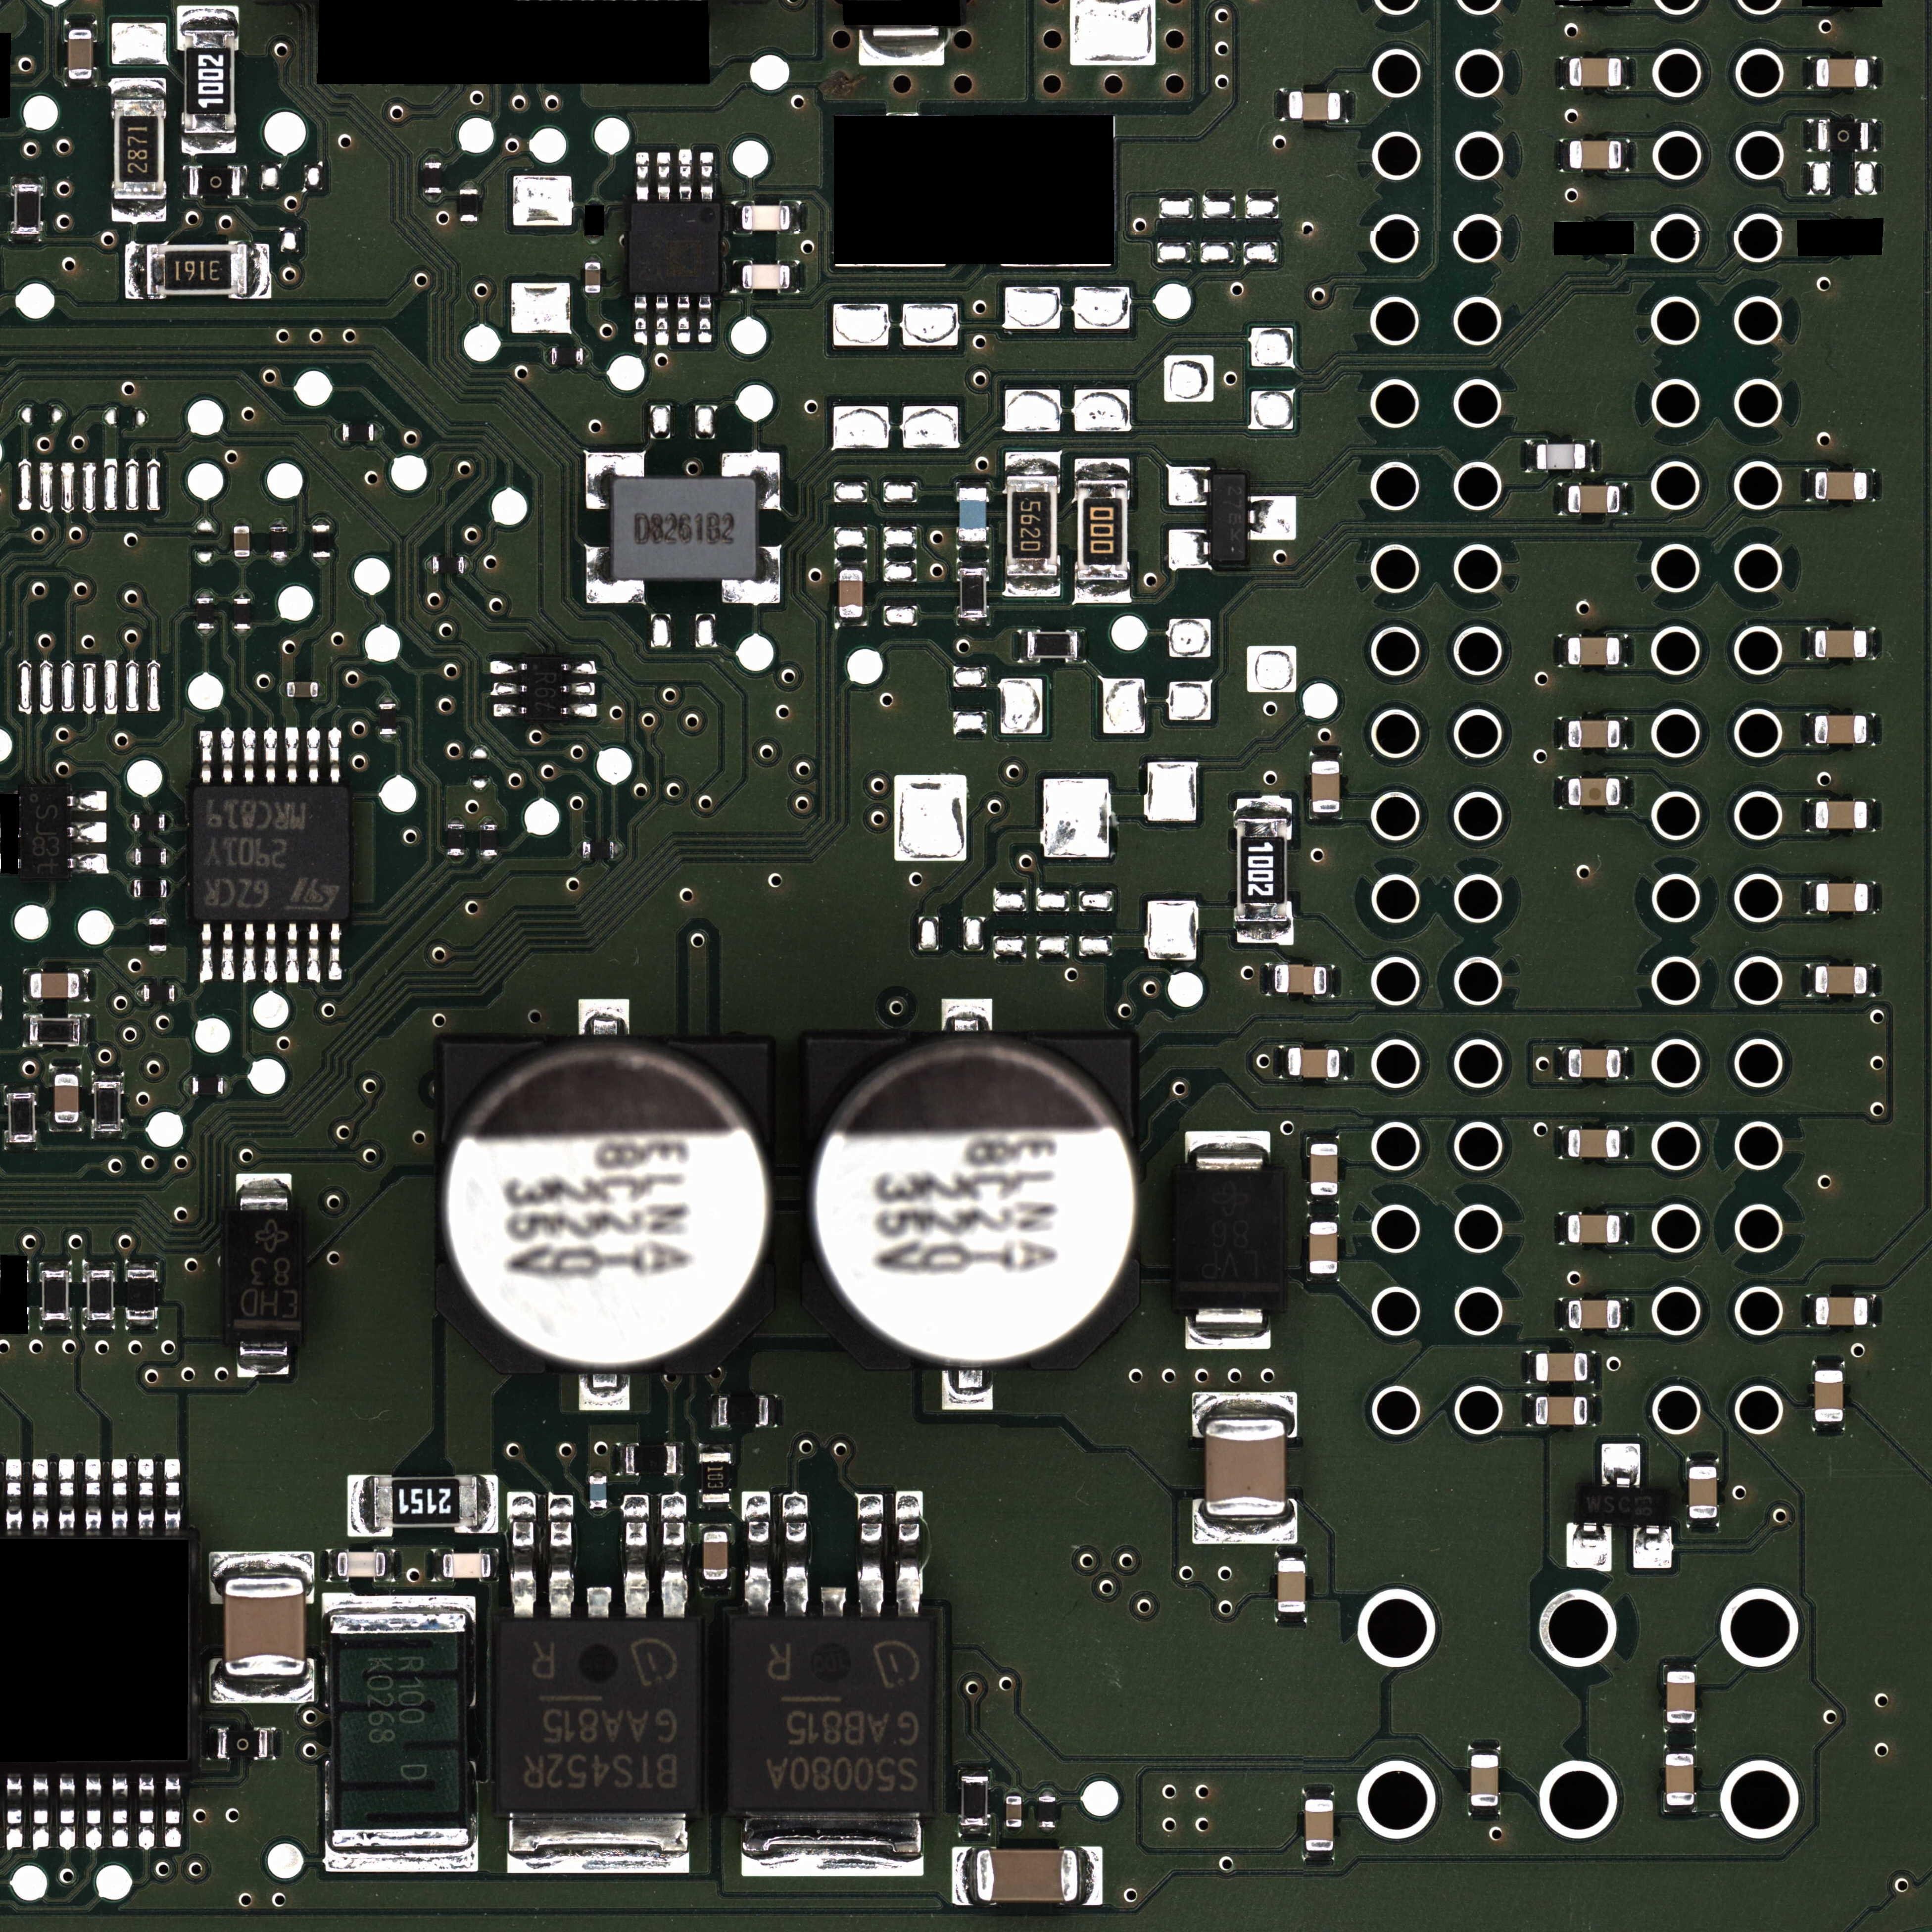Package: (435, 1035, 775, 1374), (800, 1033, 1140, 1371), (733, 1618, 931, 1811), (499, 1620, 697, 1810), (330, 1614, 468, 1845), (192, 785, 350, 921), (1173, 1169, 1283, 1308), (609, 477, 758, 578), (228, 1211, 302, 1342), (222, 1578, 307, 1676), (1203, 1419, 1287, 1516), (631, 202, 719, 293), (1235, 819, 1290, 921), (182, 30, 236, 133), (373, 1475, 477, 1528), (975, 1849, 1078, 1901), (1006, 476, 1058, 576), (147, 244, 247, 296), (113, 99, 164, 199), (1077, 481, 1128, 580), (20, 786, 68, 878), (1579, 1487, 1667, 1524), (1213, 475, 1246, 562), (526, 657, 562, 719), (1569, 141, 1622, 169), (1816, 883, 1868, 912), (1815, 1297, 1868, 1326), (1569, 58, 1621, 87), (1816, 59, 1868, 88), (1568, 1049, 1620, 1078), (1665, 1753, 1694, 1805), (1818, 122, 1869, 151), (1815, 966, 1867, 994), (1568, 1300, 1620, 1328), (1815, 1370, 1843, 1422), (1536, 1397, 1587, 1425), (1288, 1049, 1340, 1077), (959, 488, 986, 541), (1815, 716, 1867, 744), (1568, 778, 1620, 806), (1289, 92, 1341, 120), (1568, 1129, 1620, 1158), (1305, 1799, 1333, 1851), (1568, 1215, 1620, 1243), (1536, 1353, 1588, 1381), (1309, 1222, 1338, 1274), (1689, 1466, 1717, 1518), (1815, 801, 1867, 829), (1278, 1560, 1305, 1612), (1275, 966, 1326, 994), (1667, 1672, 1695, 1723), (190, 167, 240, 196), (718, 1397, 769, 1426), (701, 1453, 730, 1502), (1815, 472, 1867, 500), (1568, 720, 1620, 748), (626, 1446, 676, 1474), (1568, 637, 1619, 665), (1312, 761, 1340, 813), (1568, 485, 1620, 513), (1310, 1144, 1338, 1195), (127, 1269, 155, 1320), (217, 1730, 268, 1758), (1815, 630, 1867, 658), (1471, 1755, 1498, 1806), (960, 568, 986, 618), (30, 1018, 80, 1045), (1027, 632, 1077, 659), (14, 185, 40, 234), (8, 1093, 34, 1143), (962, 1776, 987, 1826), (1536, 444, 1586, 470), (31, 973, 80, 999), (88, 1270, 113, 1320), (43, 1270, 68, 1320), (95, 1082, 120, 1131), (68, 29, 93, 79), (54, 1074, 79, 1123), (742, 205, 790, 231), (703, 1532, 728, 1580), (338, 1552, 386, 1577), (742, 265, 790, 289), (443, 1553, 491, 1578), (839, 570, 863, 618), (312, 525, 331, 557), (460, 189, 478, 221), (149, 918, 167, 951), (134, 880, 167, 897), (424, 162, 442, 193), (589, 1476, 607, 1508), (447, 824, 465, 856), (342, 424, 374, 441), (270, 527, 288, 558), (551, 347, 582, 365), (1038, 1796, 1056, 1828), (144, 984, 175, 1002), (480, 824, 497, 856), (196, 598, 214, 629), (192, 1077, 223, 1095), (433, 557, 464, 574), (379, 703, 396, 734), (135, 848, 166, 865), (583, 842, 614, 859), (134, 814, 165, 831), (234, 599, 250, 628), (1006, 1796, 1022, 1827), (287, 682, 318, 697), (234, 527, 250, 557), (585, 262, 600, 293), (1237, 918, 1285, 923)
Solder: (741, 1813, 925, 1877), (507, 1811, 690, 1874), (326, 1846, 479, 1872), (509, 1490, 537, 1618), (1185, 1309, 1271, 1350), (895, 1491, 922, 1617), (744, 1493, 772, 1617), (585, 452, 645, 509), (857, 28, 946, 66), (660, 1494, 687, 1619), (722, 452, 780, 509), (858, 1493, 884, 1618), (723, 547, 780, 604), (586, 547, 644, 604), (322, 1593, 476, 1614), (548, 1494, 574, 1618), (624, 1494, 650, 1618), (782, 1494, 809, 1616), (1186, 1131, 1270, 1168), (1192, 1515, 1299, 1545), (209, 1676, 315, 1704), (1192, 1392, 1298, 1420), (208, 1551, 314, 1578), (1248, 496, 1297, 540), (941, 1369, 993, 1410), (236, 1173, 292, 1210), (1567, 1523, 1612, 1568), (579, 1373, 629, 1411), (237, 1342, 290, 1377), (578, 999, 629, 1034), (109, 1772, 131, 1851), (136, 1773, 157, 1852), (1633, 1524, 1672, 1568), (83, 1772, 104, 1851), (1601, 1443, 1641, 1486), (941, 998, 993, 1031), (4, 1773, 25, 1852), (30, 1773, 51, 1852), (57, 1772, 78, 1851), (162, 1772, 184, 1851), (1168, 467, 1211, 506), (1169, 530, 1210, 568), (348, 1475, 373, 1537), (4, 1457, 24, 1535), (136, 1458, 156, 1536), (30, 1458, 50, 1535), (57, 1458, 77, 1535), (110, 1458, 130, 1536), (163, 1458, 183, 1535), (177, 5, 239, 30), (84, 1458, 103, 1536), (1078, 1846, 1103, 1906), (952, 1846, 975, 1906), (1235, 922, 1294, 945), (1005, 452, 1061, 476), (1074, 581, 1131, 604), (248, 243, 270, 299), (111, 200, 167, 223), (478, 1474, 498, 1534), (1074, 458, 1130, 480), (1235, 797, 1292, 818), (110, 78, 166, 99), (1004, 577, 1061, 597), (125, 243, 145, 299), (181, 134, 237, 154), (285, 922, 299, 984), (69, 853, 110, 874), (328, 922, 342, 981), (68, 821, 108, 843), (264, 923, 278, 983), (221, 923, 235, 981), (242, 923, 256, 983), (307, 923, 321, 983), (68, 790, 108, 811), (199, 923, 213, 982), (221, 727, 235, 783), (586, 1587, 612, 1617), (286, 726, 299, 783), (242, 726, 256, 783), (307, 726, 320, 783), (821, 1587, 846, 1616), (264, 727, 277, 783), (655, 294, 669, 346), (678, 149, 692, 201), (199, 729, 213, 783), (635, 151, 649, 202), (700, 151, 714, 201), (634, 295, 648, 345), (698, 295, 712, 343), (676, 295, 690, 344), (657, 152, 671, 201), (329, 726, 340, 783), (489, 660, 526, 675), (491, 682, 526, 696), (562, 704, 597, 717), (493, 703, 526, 717), (563, 661, 596, 674), (562, 682, 595, 695), (1078, 629, 1090, 664), (790, 201, 801, 234), (732, 260, 742, 293), (1017, 630, 1027, 663), (1526, 439, 1536, 473), (327, 1549, 337, 1582), (958, 1826, 991, 1835), (208, 1726, 217, 1761), (386, 1549, 395, 1582), (676, 1443, 686, 1475), (698, 1443, 732, 1452), (732, 201, 742, 234), (790, 260, 800, 292), (1805, 468, 1815, 502), (1526, 1350, 1536, 1384), (125, 1260, 158, 1269), (82, 1320, 115, 1329), (834, 560, 868, 569), (769, 1395, 778, 1428), (699, 1581, 732, 1591), (1808, 119, 1818, 152), (1586, 439, 1595, 473), (1558, 483, 1568, 516), (1526, 1394, 1535, 1427), (1559, 1298, 1568, 1331), (40, 1320, 72, 1329), (39, 1260, 72, 1270), (80, 969, 89, 1002), (433, 1549, 442, 1582), (83, 1260, 115, 1270), (80, 1014, 90, 1046), (267, 1728, 277, 1760), (1310, 751, 1342, 761), (1812, 1360, 1844, 1370), (1266, 963, 1275, 996), (1558, 634, 1567, 668), (10, 175, 44, 184), (125, 1320, 158, 1329), (616, 1443, 625, 1476), (1620, 634, 1629, 667), (1806, 1294, 1815, 1327), (1812, 1422, 1845, 1431), (1588, 1394, 1596, 1427), (1468, 1745, 1501, 1754), (1686, 1457, 1719, 1466), (1468, 1807, 1501, 1816), (64, 20, 97, 29), (1327, 965, 1336, 997), (1307, 1213, 1340, 1222), (1302, 1790, 1335, 1799), (1275, 1613, 1307, 1622), (1560, 139, 1569, 172), (1620, 483, 1629, 515), (1559, 1047, 1568, 1080), (1664, 1744, 1696, 1753), (491, 1548, 500, 1581), (835, 618, 867, 627), (957, 559, 989, 568), (956, 541, 990, 550), (1303, 1851, 1335, 1860), (1279, 1045, 1288, 1078), (1307, 1274, 1340, 1283), (1806, 627, 1815, 660), (1621, 1298, 1629, 1331), (1664, 1724, 1697, 1732), (1687, 1519, 1720, 1527), (1664, 1663, 1697, 1671), (92, 1072, 123, 1081), (9, 234, 42, 242), (4, 1084, 37, 1092), (1307, 1196, 1340, 1204), (1560, 57, 1569, 90), (1559, 717, 1568, 750), (1867, 964, 1876, 997), (1559, 1212, 1568, 1245), (49, 1065, 82, 1073), (957, 618, 989, 627), (699, 1523, 731, 1532), (959, 1768, 991, 1776), (1280, 89, 1289, 121), (1621, 56, 1630, 89), (1621, 139, 1630, 171), (4, 1143, 38, 1151), (710, 1394, 718, 1427), (1306, 1135, 1340, 1143), (1868, 469, 1876, 502), (1867, 627, 1875, 660), (1807, 964, 1815, 997), (241, 165, 248, 198), (1341, 90, 1349, 123), (1340, 1047, 1348, 1080), (1808, 56, 1816, 89), (1807, 881, 1815, 914), (1807, 799, 1815, 831), (1560, 776, 1568, 809), (1867, 713, 1875, 746), (1620, 1212, 1628, 1245), (1621, 1047, 1629, 1079), (1560, 1126, 1568, 1159), (1620, 1126, 1628, 1159), (1276, 1552, 1306, 1560), (22, 1014, 30, 1046), (1620, 717, 1628, 749), (1664, 1805, 1696, 1813), (50, 1123, 82, 1131), (1868, 120, 1876, 151), (23, 968, 30, 1002), (1807, 713, 1814, 746), (93, 1131, 124, 1139), (1588, 1351, 1595, 1384), (1868, 1294, 1876, 1327), (182, 165, 189, 198), (1309, 813, 1342, 820), (1867, 799, 1875, 831), (1868, 881, 1876, 914), (1620, 776, 1628, 809), (64, 79, 97, 87), (1869, 57, 1876, 89), (699, 1503, 731, 1510), (957, 481, 990, 488), (335, 423, 342, 443), (374, 423, 382, 443), (149, 951, 167, 959), (135, 984, 143, 1002), (423, 193, 442, 201), (166, 813, 173, 831), (126, 814, 134, 832), (149, 911, 167, 918), (588, 1509, 608, 1516), (460, 221, 478, 229), (127, 848, 135, 866), (126, 879, 134, 897), (185, 1077, 192, 1095), (460, 182, 479, 189), (167, 879, 174, 898), (379, 735, 397, 742), (378, 696, 397, 703), (426, 556, 433, 575), (584, 254, 601, 261), (545, 347, 551, 366), (167, 848, 174, 866), (464, 556, 471, 574), (480, 856, 497, 863), (447, 856, 465, 863), (584, 347, 590, 367), (425, 155, 442, 162), (480, 817, 497, 824), (175, 985, 182, 1002), (1006, 1789, 1022, 1796), (223, 1078, 230, 1094), (587, 198, 603, 205), (1039, 1789, 1055, 1796), (589, 1469, 607, 1476), (585, 293, 601, 300), (586, 237, 602, 243), (448, 817, 465, 823), (1006, 1827, 1022, 1834), (614, 842, 621, 859), (234, 629, 251, 635), (577, 842, 583, 858), (270, 521, 288, 527), (313, 557, 331, 563), (1039, 1828, 1056, 1834), (233, 521, 250, 526), (233, 593, 251, 598), (312, 520, 330, 525), (271, 558, 288, 563), (196, 593, 214, 598), (318, 682, 323, 697), (196, 629, 214, 633), (234, 557, 250, 562), (282, 681, 287, 697)
